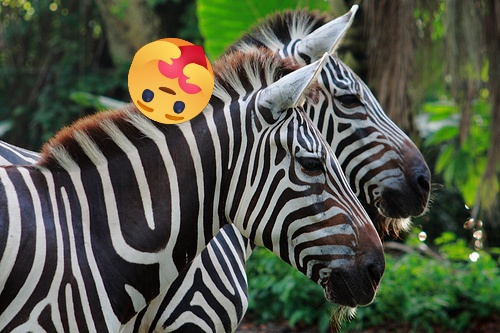care: (128, 38, 214, 124)
